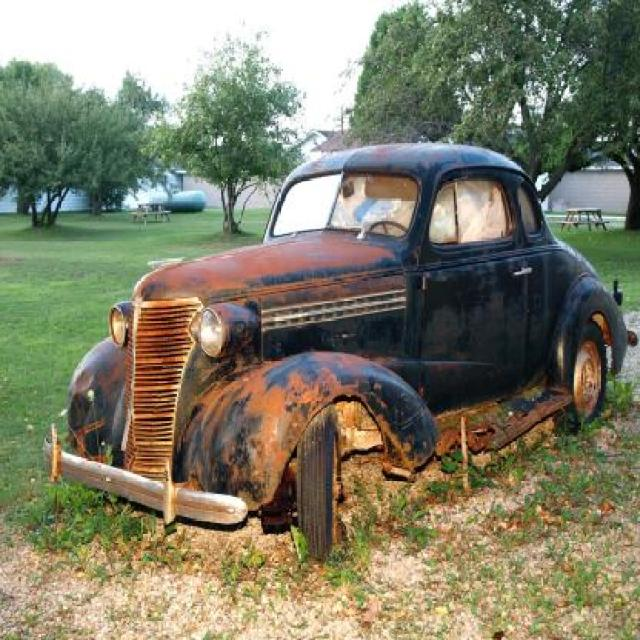corrosion: (44, 144, 616, 550)
